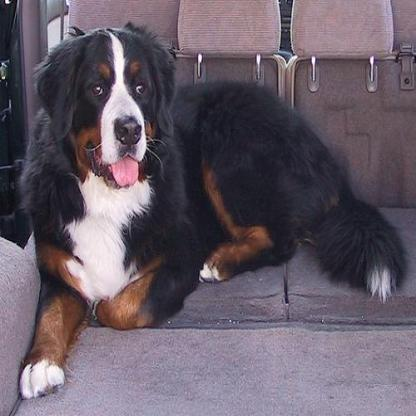Bernese_mountain_dog: (19, 19, 406, 401)
